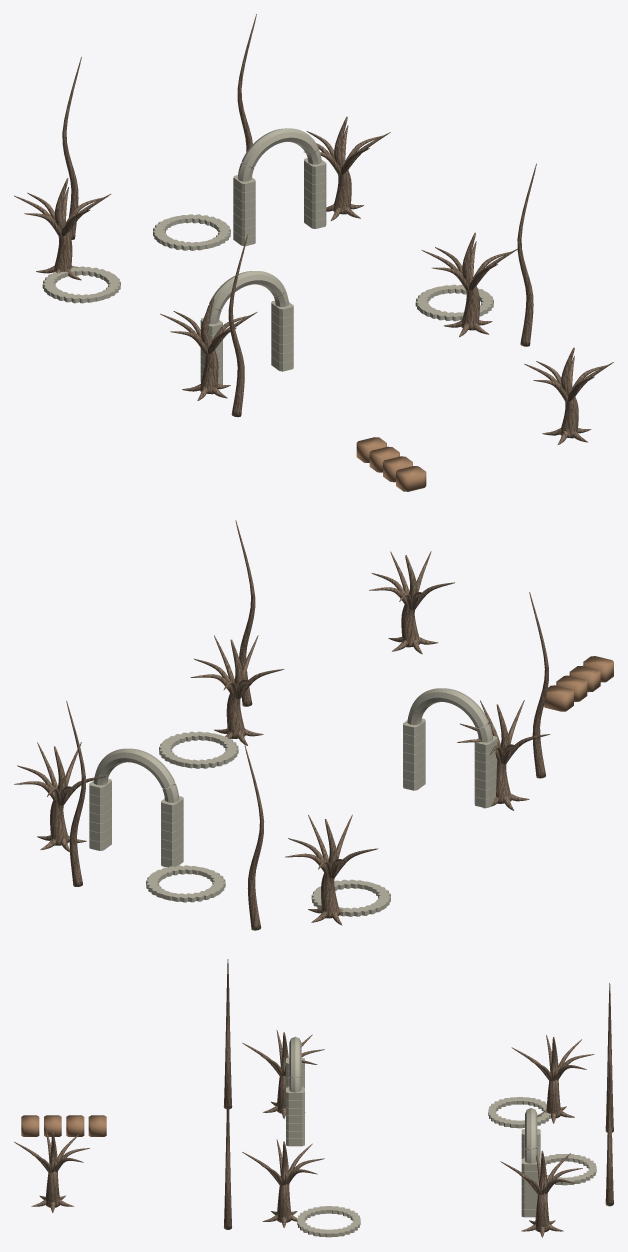
The model's file is R4_Structure_StationRemoved.fbx.
3 renders of one model, top to bottom at view 1: azimuth 30°, elevation 25°; view 2: azimuth 150°, elevation 25°; view 3: azimuth 270°, elevation 25°, orthographic. The views are drawn at different scales.
Parts seen in each view (by area): view 1: R4_Structure_StationRemoved; view 2: R4_Structure_StationRemoved; view 3: R4_Structure_StationRemoved.
Part boxes in pixels (bbox=[...]): R4_Structure_StationRemoved: bbox=[14, 14, 613, 491]; R4_Structure_StationRemoved: bbox=[14, 520, 613, 930]; R4_Structure_StationRemoved: bbox=[14, 959, 613, 1237].
Bounding box in the file's own units: 32.45 × 15.18 × 53.43.
